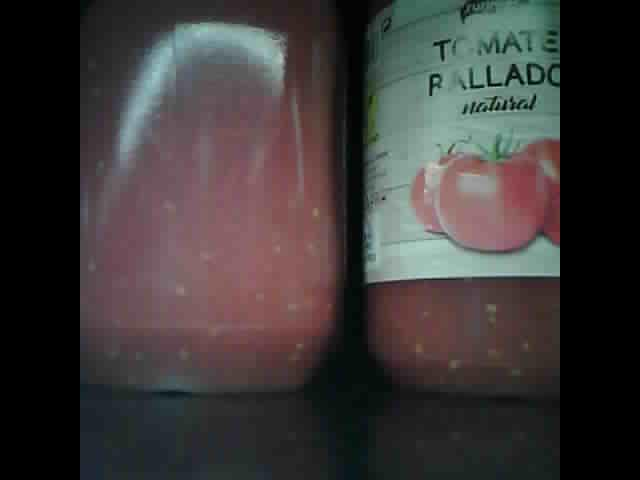tomate: (84, 2, 347, 395), (367, 4, 558, 397)
